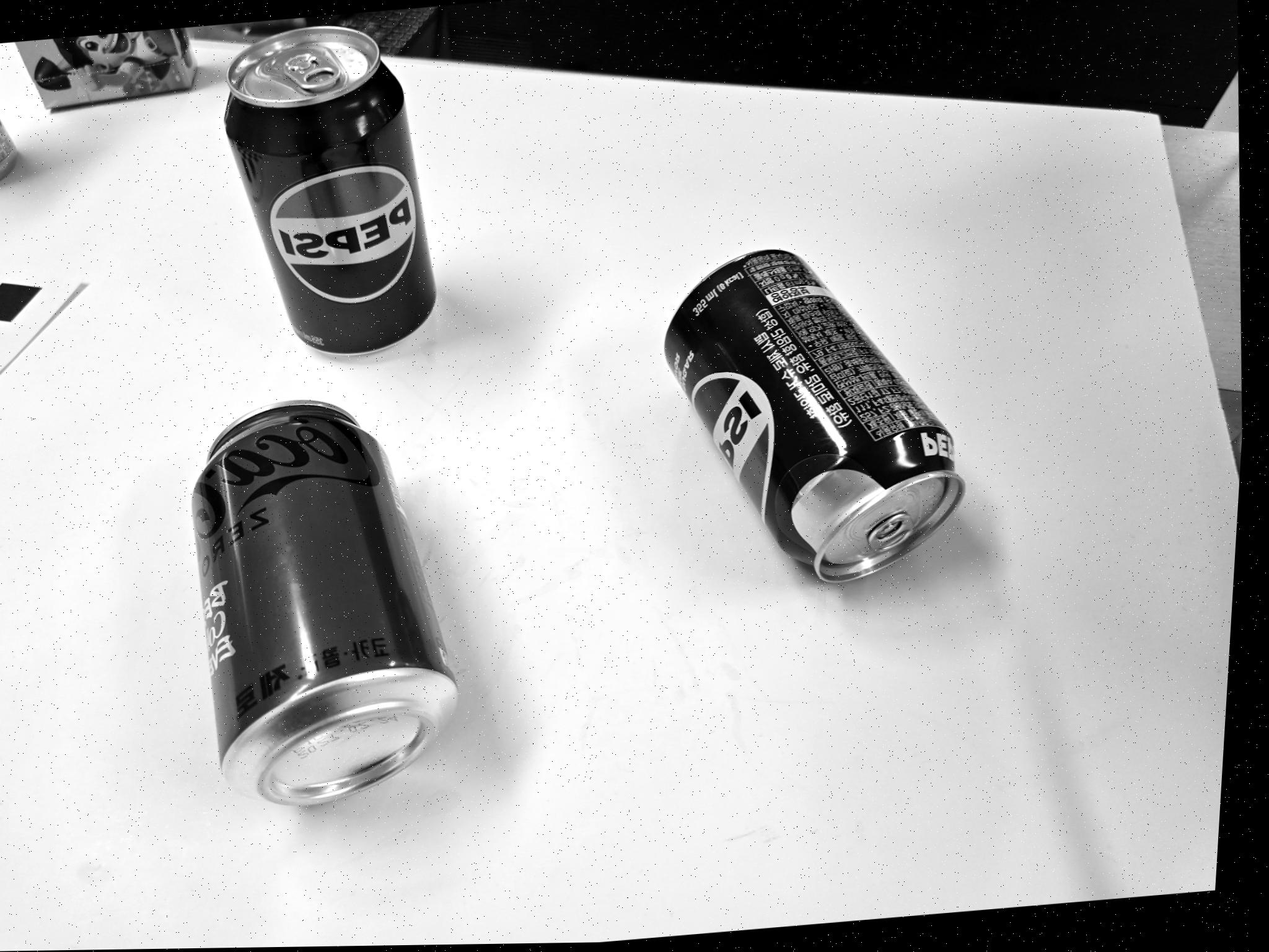can_coke_zero: (190, 400, 457, 804)
can_pepsi: (225, 26, 435, 353)
can_pepsi_zero: (665, 249, 965, 582)
